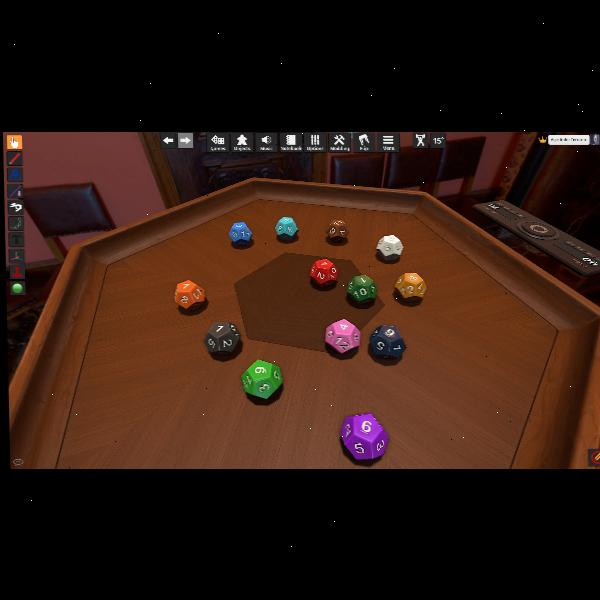d12: (340, 412, 388, 458), (241, 359, 282, 399), (369, 325, 406, 359), (325, 318, 360, 352), (204, 322, 239, 354), (175, 278, 206, 310), (395, 271, 426, 301), (346, 274, 377, 304), (376, 234, 403, 262), (309, 260, 333, 286), (229, 222, 253, 246), (326, 219, 348, 242), (277, 218, 299, 240)
